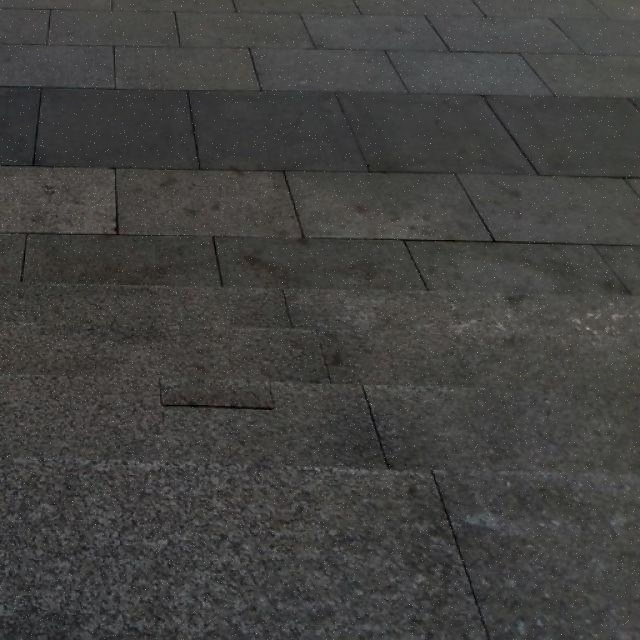stair: (0, 272, 631, 596)
